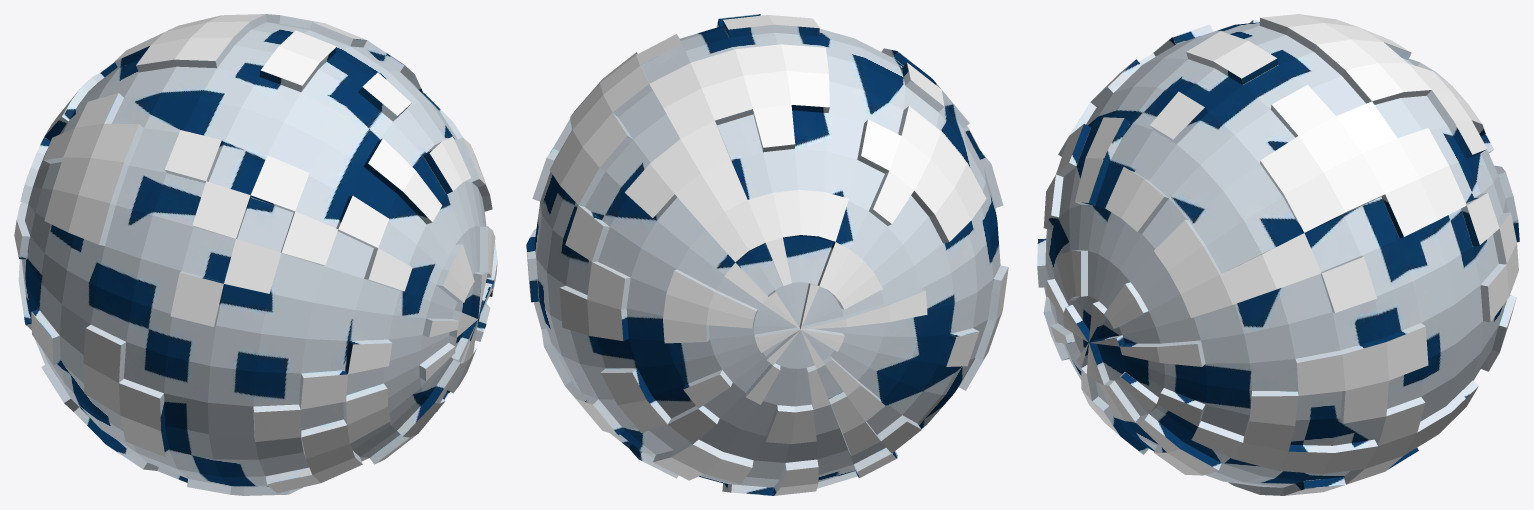
The model's file is planet_01-transformed.glb.
The picture shows the model from 3 angles, left to right: view 1: azimuth 30°, elevation 25°; view 2: azimuth 150°, elevation 25°; view 3: azimuth 270°, elevation 25°; orthographic projection.
Visible parts, largest first — view 1: Sphere.003; view 2: Sphere.003; view 3: Sphere.003.
Boxes of the visible parts, bbox=[...] form: Sphere.003: bbox=[14, 14, 497, 495]; Sphere.003: bbox=[526, 14, 1008, 495]; Sphere.003: bbox=[1037, 14, 1519, 495].
Size of the model in its own units: 2.06 by 2.06 by 2.06.
2 materials, 1 textured.
